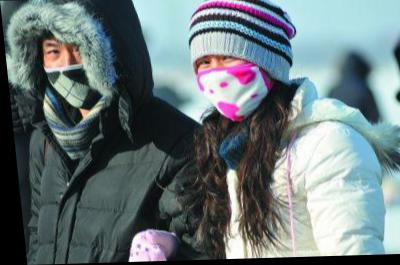OK: (194, 48, 268, 124)
WRONG: (40, 34, 106, 114)
